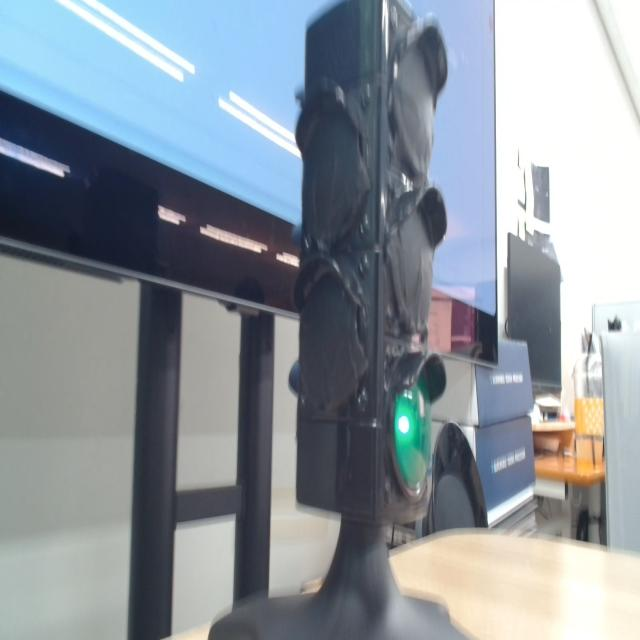green_light: (394, 378, 430, 492)
